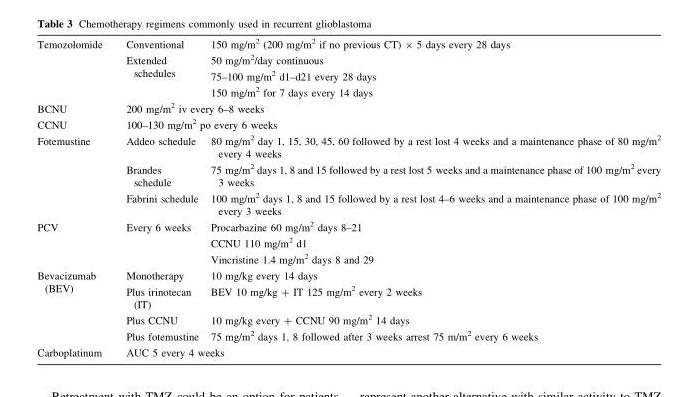table: (36, 37, 660, 357)
table column: (204, 37, 660, 357), (113, 37, 204, 357), (36, 37, 113, 357)
table row: (36, 218, 660, 267), (36, 160, 660, 189), (36, 189, 660, 218), (36, 282, 660, 311), (36, 132, 660, 160), (36, 115, 660, 132), (36, 327, 660, 344), (36, 51, 660, 67), (36, 67, 660, 83), (36, 83, 660, 99), (36, 99, 660, 115), (36, 311, 660, 327), (36, 267, 660, 282), (36, 37, 660, 51), (36, 344, 660, 357)
table spanning cell: (113, 115, 660, 132), (113, 99, 660, 115), (113, 344, 660, 357), (36, 132, 113, 218), (36, 267, 113, 344), (36, 37, 113, 99), (113, 51, 204, 99)
